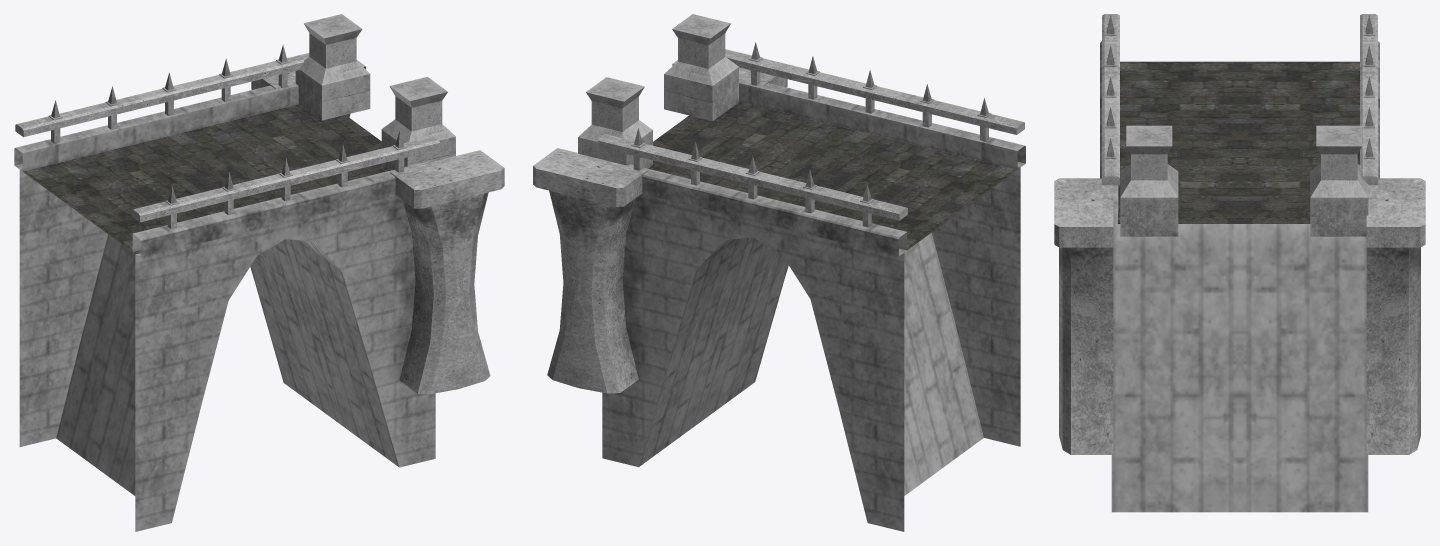
File: Bridge.fbx
3 views of the same model, side by side, from view 1: azimuth 30°, elevation 25°; view 2: azimuth 150°, elevation 25°; view 3: azimuth 270°, elevation 25° (orthographic). The views are drawn at different scales.
Parts seen in each view (by area): view 1: Main, pCube17, pCube40, pCube24, pCube35, pCube39; view 2: Main, pCube38, pCube39, pCube35, pCube24, pCube40; view 3: Main, pCube17, pCube38, pCube39, pCube40, pCube24, pCube35.
Part boxes in pixels (x1=…): Main: x1=14, y1=83, x2=435, y2=531; pCube17: x1=390, y1=150, x2=504, y2=394; pCube40: x1=295, y1=14, x2=370, y2=120; pCube24: x1=131, y1=136, x2=440, y2=222; pCube35: x1=15, y1=53, x2=309, y2=137; pCube39: x1=381, y1=77, x2=455, y2=170; Main: x1=602, y1=80, x2=1025, y2=531; pCube38: x1=533, y1=148, x2=648, y2=393; pCube39: x1=664, y1=14, x2=738, y2=121; pCube35: x1=597, y1=134, x2=907, y2=220; pCube24: x1=725, y1=49, x2=1024, y2=134; pCube40: x1=578, y1=77, x2=652, y2=168; Main: x1=1100, y1=41, x2=1379, y2=512; pCube17: x1=1054, y1=178, x2=1113, y2=454; pCube38: x1=1366, y1=178, x2=1425, y2=454; pCube39: x1=1120, y1=125, x2=1178, y2=236; pCube40: x1=1310, y1=125, x2=1368, y2=236; pCube24: x1=1102, y1=14, x2=1119, y2=185; pCube35: x1=1360, y1=14, x2=1377, y2=185.
Bounding box in the file's own units: 456 × 450 × 382.
1 material, 1 textured.
